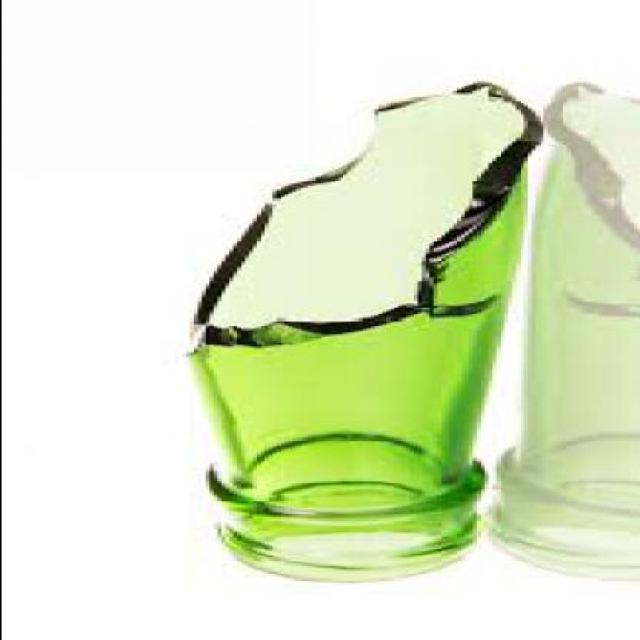GLASS: (180, 81, 538, 579)
